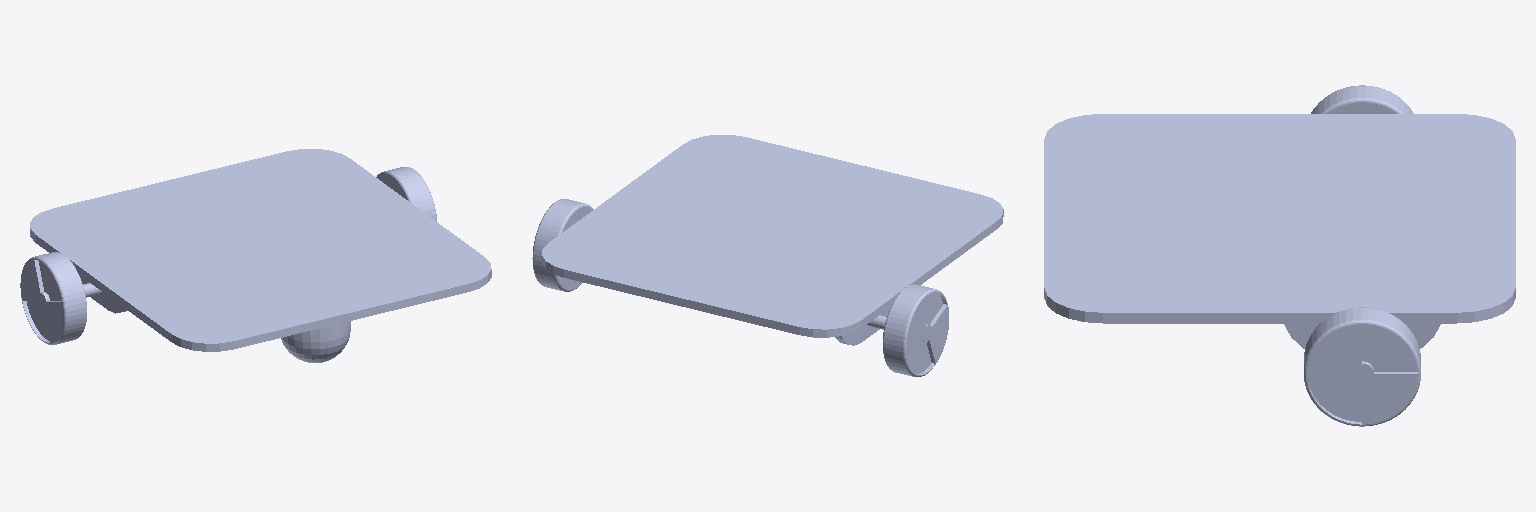
robot.urdf — grey:
<?xml version="1.0" encoding="utf-8"?>
<!-- This URDF was automatically created by SolidWorks to URDF Exporter! Originally created by [author] ([email redacted]) 
     Commit Version: 1.5.1-0-g916b5db  Build Version: 1.5.7152.31018
     For more information, please see http://wiki.ros.org/sw_urdf_exporter -->
<robot
  name="grey">
  <link
    name="base_link">
    <inertial>
      <origin
        xyz="-2.084E-17 0.077012 0.015854"
        rpy="0 0 0" />
      <mass
        value="2.0286" />
      <inertia
        ixx="0.02636"
        ixy="-3.704E-19"
        ixz="-1.323E-18"
        iyy="0.049356"
        iyz="0.0010919"
        izz="0.024274" />
    </inertial>
    <visual>
      <origin
        xyz="0 0 0"
        rpy="0 0 0" />
      <geometry>
        <mesh
          filename="package://grey/meshes/base_link.STL" />
      </geometry>
      <material
        name="">
        <color
          rgba="0.79216 0.81961 0.93333 1" />
      </material>
    </visual>
    <collision>
      <origin
        xyz="0 0 0"
        rpy="0 0 0" />
      <geometry>
        <mesh
          filename="package://grey/meshes/base_link.STL" />
      </geometry>
    </collision>
  </link>
  <link
    name="left_wheel">
    <inertial>
      <origin
        xyz="0.057772 0 0"
        rpy="0 0 0" />
      <mass
        value="0.67732" />
      <inertia
        ixx="0.00081812"
        ixy="-1.5659E-20"
        ixz="-1.7435E-20"
        iyy="0.00048728"
        iyz="-1.8261E-05"
        izz="0.00048728" />
    </inertial>
    <visual>
      <origin
        xyz="0 0 0"
        rpy="0 0 0" />
      <geometry>
        <mesh
          filename="package://grey/meshes/left_wheel.STL" />
      </geometry>
      <material
        name="">
        <color
          rgba="0.79216 0.81961 0.93333 1" />
      </material>
    </visual>
    <collision>
      <origin
        xyz="0 0 0"
        rpy="0 0 0" />
      <geometry>
        <mesh
          filename="package://grey/meshes/left_wheel.STL" />
      </geometry>
    </collision>
  </link>
  <joint
    name="left_wheel_joint"
    type="continuous">
    <origin
      xyz="0.163 0.07 0.05"
      rpy="1.5708 0 0" />
    <parent
      link="base_link" />
    <child
      link="left_wheel" />
    <axis
      xyz="1 0 0" />
    <dynamics
      damping="1"
      friction="5" />
  </joint>
  <link
    name="right_wheel">
    <inertial>
      <origin
        xyz="0.057772 -1.3878E-17 0"
        rpy="0 0 0" />
      <mass
        value="0.67732" />
      <inertia
        ixx="0.00081812"
        ixy="-3.3374E-20"
        ixz="2.7561E-20"
        iyy="0.00048728"
        iyz="-1.8261E-05"
        izz="0.00048728" />
    </inertial>
    <visual>
      <origin
        xyz="0 0 0"
        rpy="0 0 0" />
      <geometry>
        <mesh
          filename="package://grey/meshes/right_wheel.STL" />
      </geometry>
      <material
        name="">
        <color
          rgba="0.79216 0.81961 0.93333 1" />
      </material>
    </visual>
    <collision>
      <origin
        xyz="0 0 0"
        rpy="0 0 0" />
      <geometry>
        <mesh
          filename="package://grey/meshes/right_wheel.STL" />
      </geometry>
    </collision>
  </link>
  <joint
    name="right_wheel_joint"
    type="continuous">
    <origin
      xyz="-0.163 0.07 0.05"
      rpy="1.9487 0 3.1416" />
    <parent
      link="base_link" />
    <child
      link="right_wheel" />
    <axis
      xyz="1 0 0" />
    <dynamics
      damping="1"
      friction="5" />
  </joint>
</robot>

--- Facts derived from the render (not from the file) ---
The picture shows the robot from 3 angles, left to right: view 1: azimuth 30°, elevation 25°; view 2: azimuth 150°, elevation 25°; view 3: azimuth 270°, elevation 25°; orthographic projection.
Robot: grey — 3 links, 2 joints (2 continuous); root link base_link; default pose: every joint at zero.
Visible links, largest first — view 1: base_link, right_wheel, left_wheel; view 2: base_link, right_wheel, left_wheel; view 3: base_link, left_wheel, right_wheel.
Link boxes in pixels (left/top/right/bottom): base_link: left=30, top=149, right=491, bottom=362; right_wheel: left=20, top=252, right=101, bottom=344; left_wheel: left=376, top=167, right=436, bottom=221; base_link: left=542, top=135, right=1003, bottom=345; right_wheel: left=867, top=284, right=948, bottom=376; left_wheel: left=532, top=199, right=593, bottom=291; base_link: left=1044, top=114, right=1515, bottom=348; left_wheel: left=1304, top=307, right=1420, bottom=426; right_wheel: left=1311, top=85, right=1413, bottom=113.
Bounding box of the posed robot: 0.476 × 0.4 × 0.1 m (x, y, z).
3 mesh visuals loaded from 3 distinct referenced files (3 binary STL).
